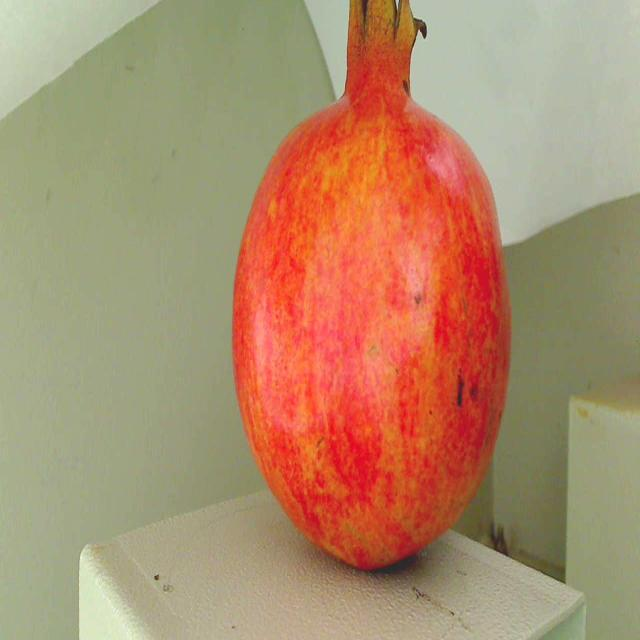pomegranate: (221, 0, 536, 591)
